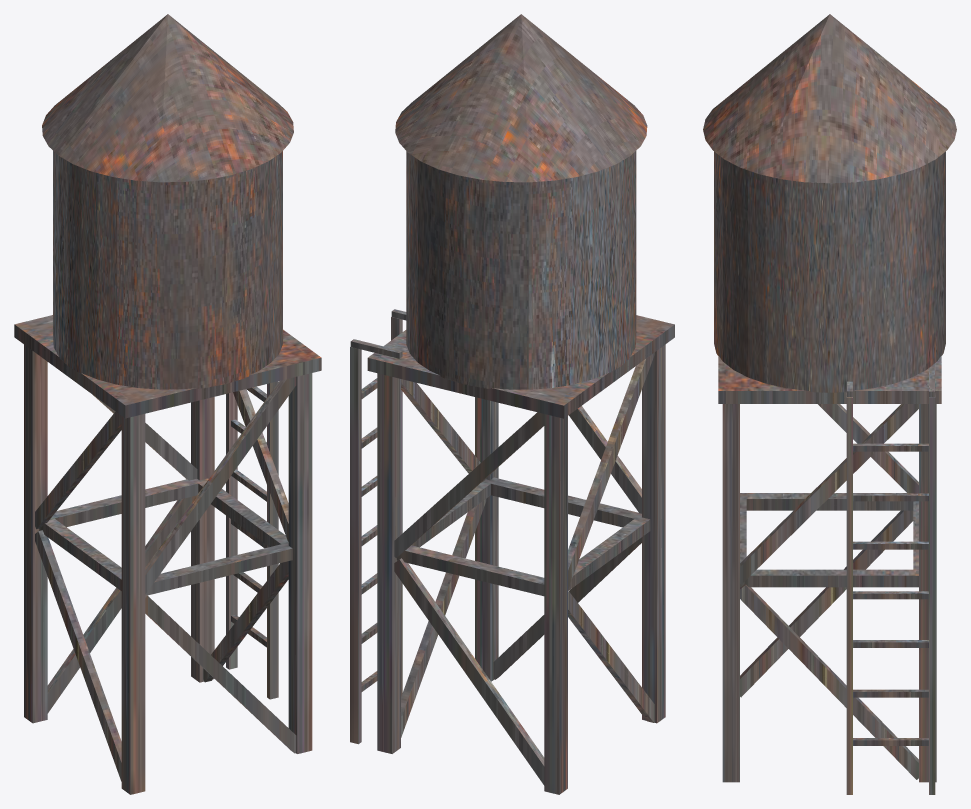
Rendered from Tower.fbx.
3 views of the same model, side by side, from view 1: azimuth 30°, elevation 25°; view 2: azimuth 150°, elevation 25°; view 3: azimuth 270°, elevation 25° (orthographic).
Parts seen in each view (by area): view 1: Cube.001; view 2: Cube.001; view 3: Cube.001.
Boxes of the visible parts, x1=… form: Cube.001: x1=14, y1=14, x2=321, y2=794; Cube.001: x1=350, y1=14, x2=674, y2=794; Cube.001: x1=703, y1=14, x2=956, y2=794.
Bounding box in the file's own units: 492 × 1483 × 472.
Materials: 1 (1 with a texture image).
